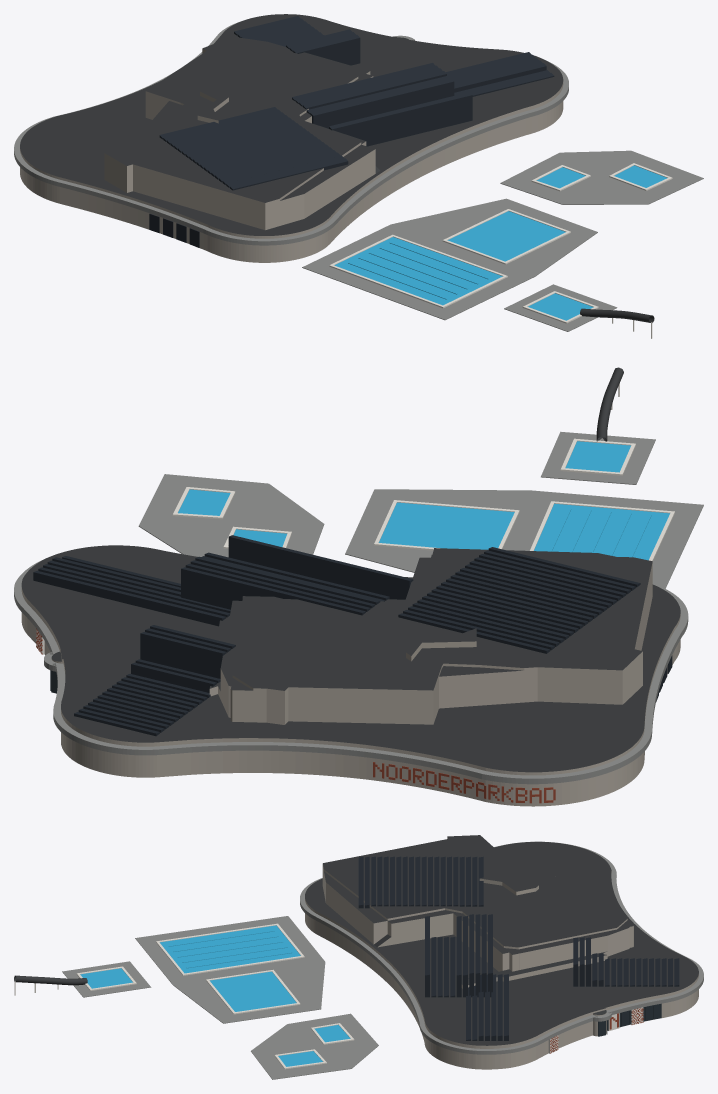
File: noorderparkbad.glb
3 views of the same model, one above another, from view 1: azimuth 30°, elevation 25°; view 2: azimuth 150°, elevation 25°; view 3: azimuth 270°, elevation 25° (orthographic). The views are drawn at different scales.
Visible parts, largest first — view 1: noorderparkbad; view 2: noorderparkbad; view 3: noorderparkbad.
Part boxes in pixels (bbox=[...]): noorderparkbad: bbox=[14, 14, 703, 338]; noorderparkbad: bbox=[14, 367, 703, 806]; noorderparkbad: bbox=[14, 835, 703, 1079].
Bounding box in the file's own units: 102 × 11.03 × 137.
